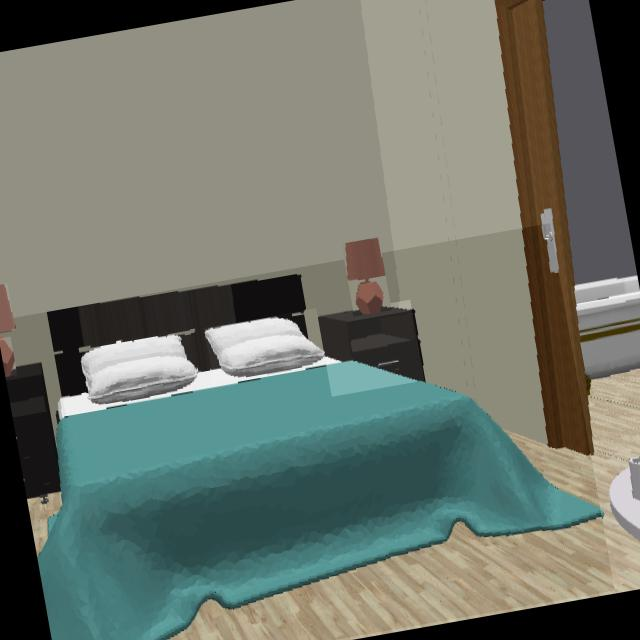bathtube: (576, 275, 640, 376)
bed: (37, 276, 601, 640)
lamp: (345, 241, 385, 314), (0, 284, 15, 332), (0, 340, 13, 376)
nighttable: (320, 306, 423, 381), (5, 364, 60, 498)
pillow: (81, 336, 198, 404), (205, 320, 323, 377)
